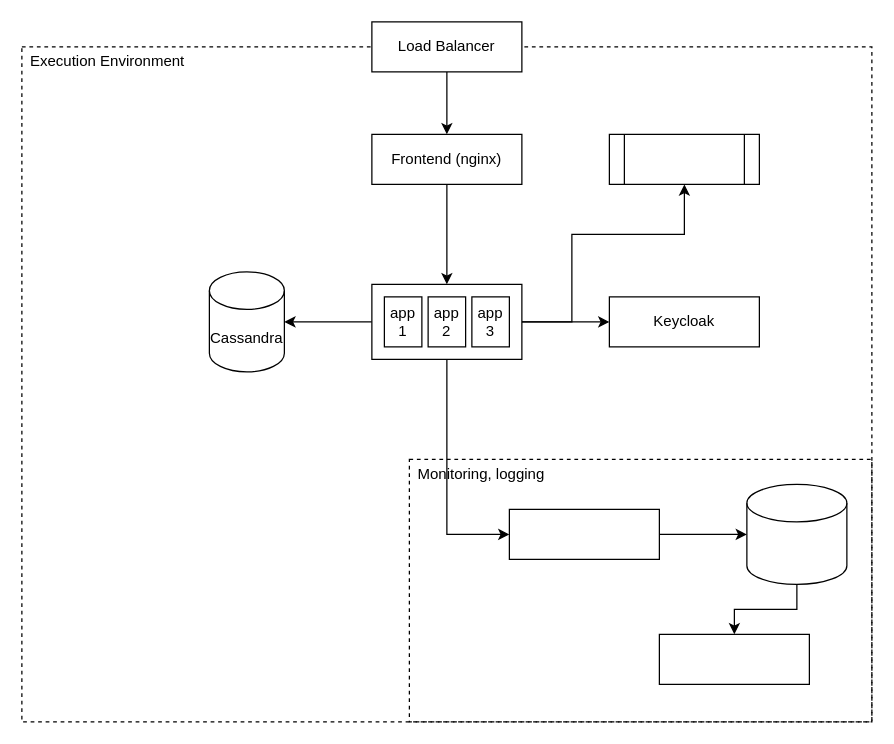
Image size: 894x744. Some labels were removed from this diagram. The shapes that lost their labels are listed below. From the top down, each one's box as (x1, y1, x2, y2) in pixels, then its label:
(608, 133, 759, 184): RabbitMQ
(371, 283, 522, 359): crypto-exchange-core
(508, 508, 659, 559): Fluent-bit
(746, 483, 847, 584): OpenSearch
(658, 633, 809, 684): Opensearch Dashboards
